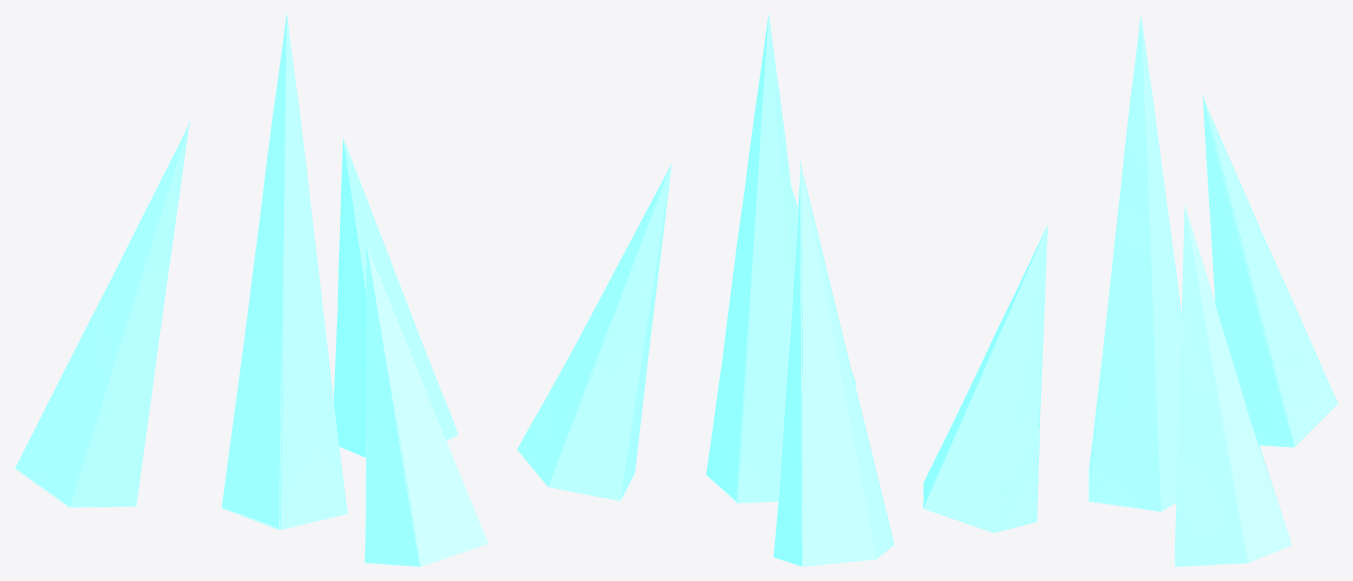
The model's file is crystal_cluster.glb.
The picture shows the model from 3 angles, left to right: view 1: azimuth 30°, elevation 25°; view 2: azimuth 150°, elevation 25°; view 3: azimuth 270°, elevation 25°; orthographic projection. The views are drawn at different scales.
Visible parts, largest first — view 1: CrystalShard0; view 2: CrystalShard0; view 3: CrystalShard0.
Part boxes in pixels (box(x1,y1,x2,y2)): CrystalShard0: box(14, 14, 488, 566); CrystalShard0: box(517, 14, 894, 566); CrystalShard0: box(923, 15, 1338, 566).
Size of the model in its own units: 1.38 by 1.63 by 1.28.
